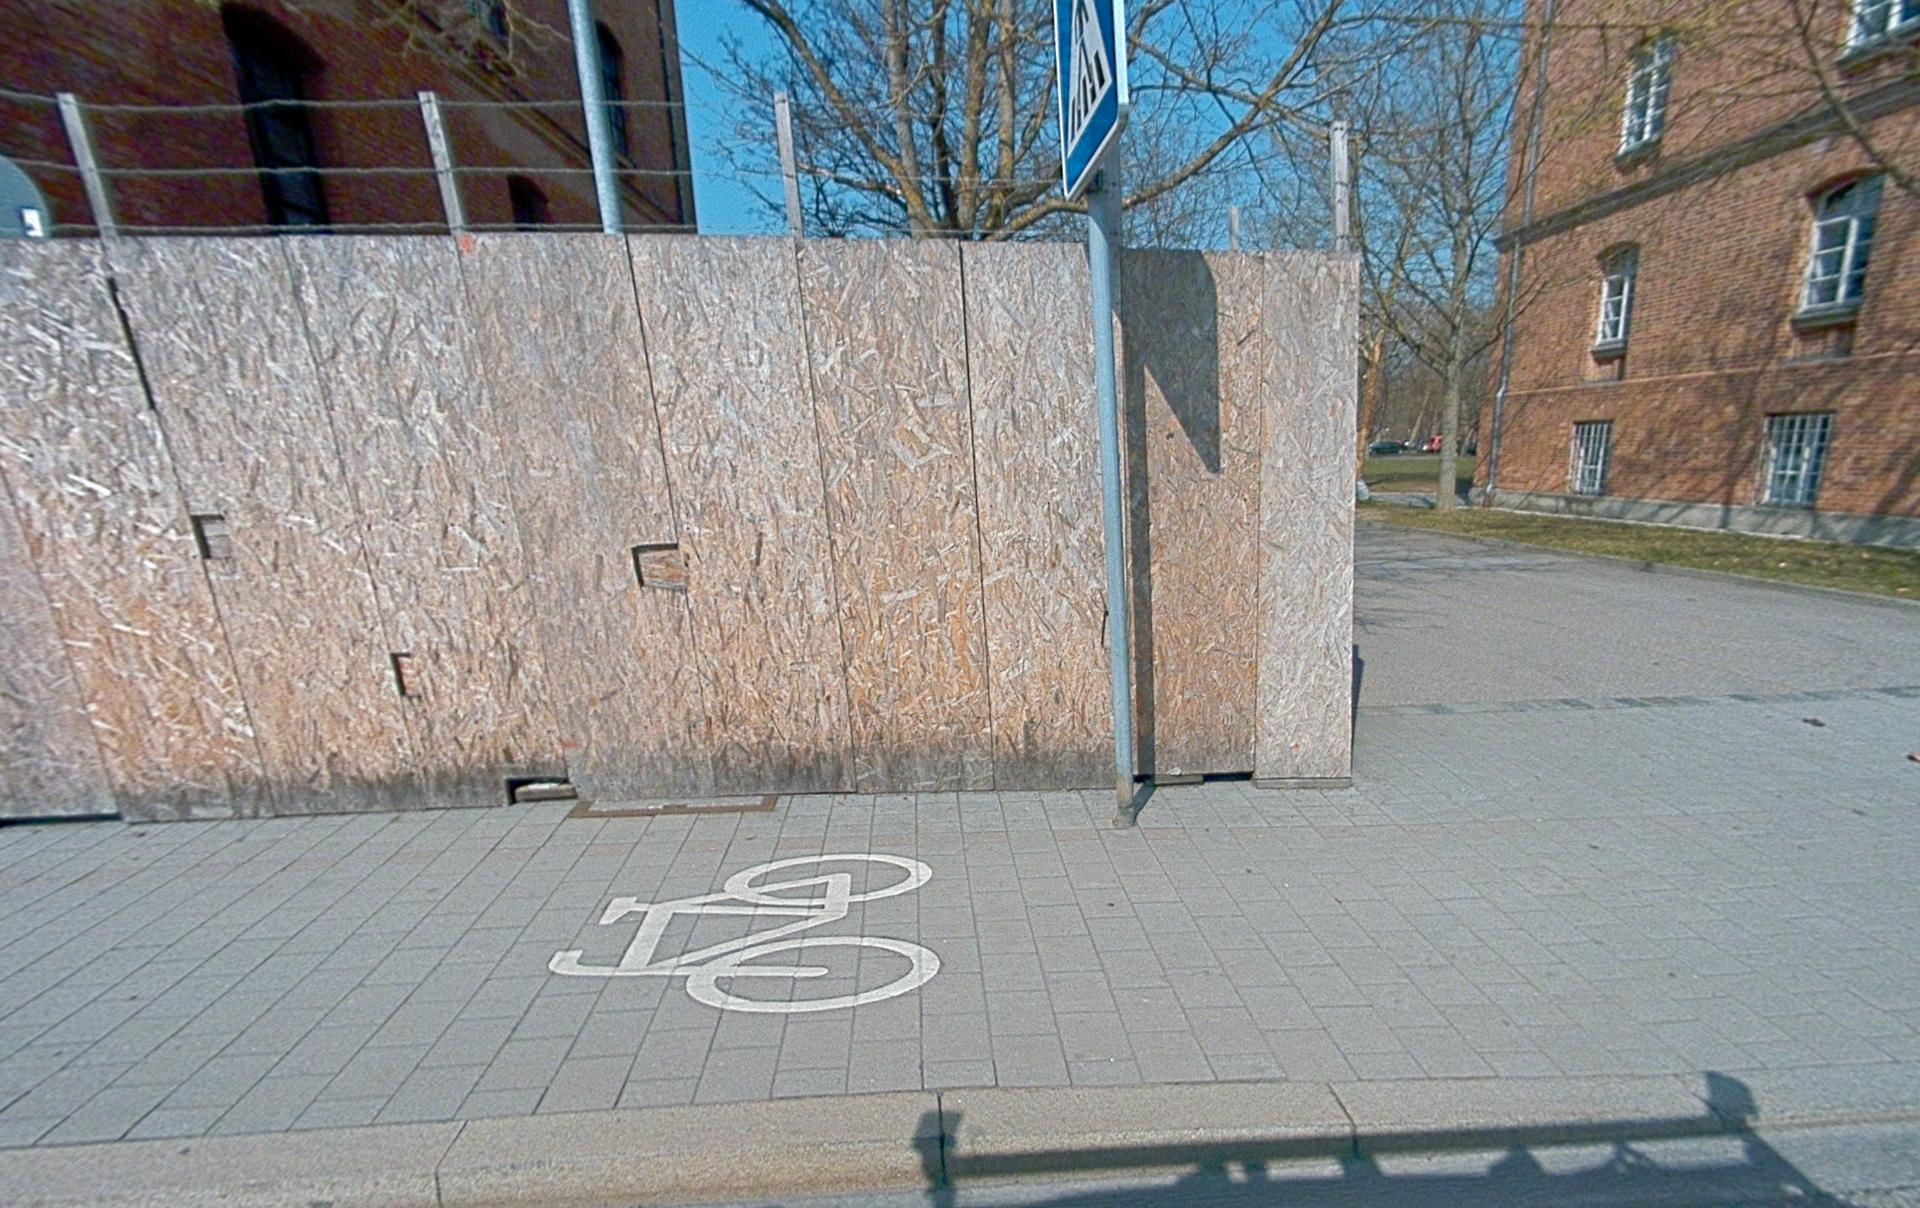car: (1369, 440, 1404, 455), (1422, 434, 1443, 454)
traffic sign: (1053, 0, 1126, 200)
